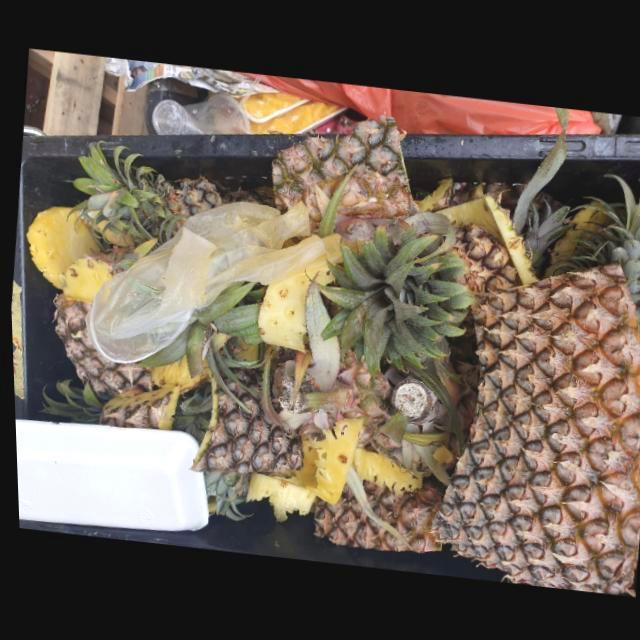plastic_bag: (81, 196, 322, 361)
